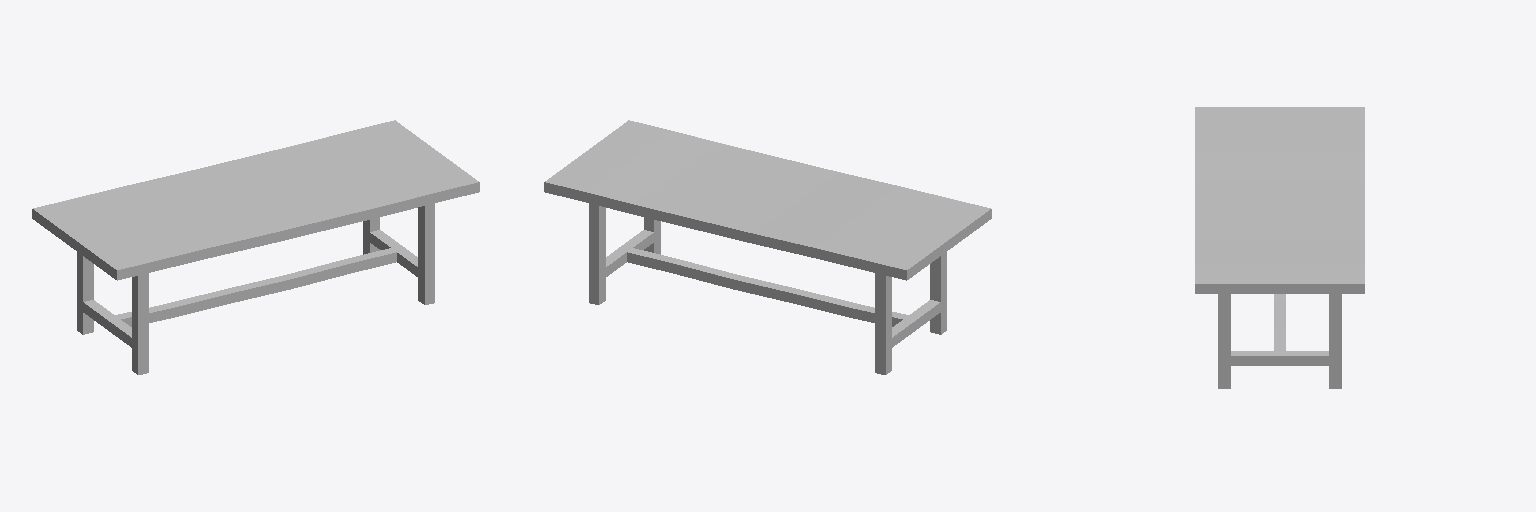
File: FPC6FO3EM6O76XDG4OEVVYGRS.obj
3 renders of one model, left to right at view 1: azimuth 30°, elevation 25°; view 2: azimuth 150°, elevation 25°; view 3: azimuth 270°, elevation 25°, orthographic.
Parts seen in each view (by area): view 1: Object_TexMap_0; view 2: Object_TexMap_0; view 3: Object_TexMap_0.
Part boxes in pixels (bbox=[...]): Object_TexMap_0: bbox=[32, 120, 479, 374]; Object_TexMap_0: bbox=[544, 120, 991, 374]; Object_TexMap_0: bbox=[1195, 107, 1364, 388].
Bounding box in the file's own units: 2.5 × 0.7989 × 1.01.